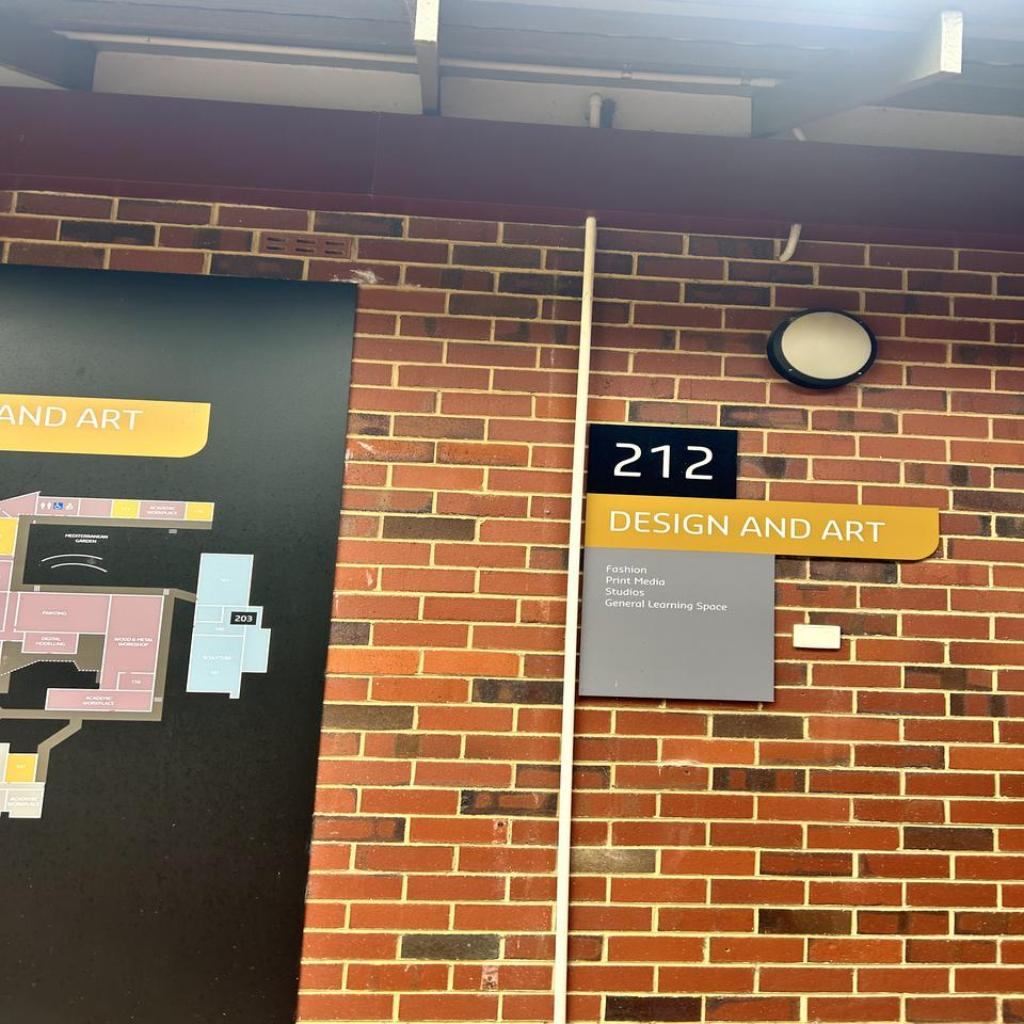BuildingCodes: (610, 438, 716, 484)
